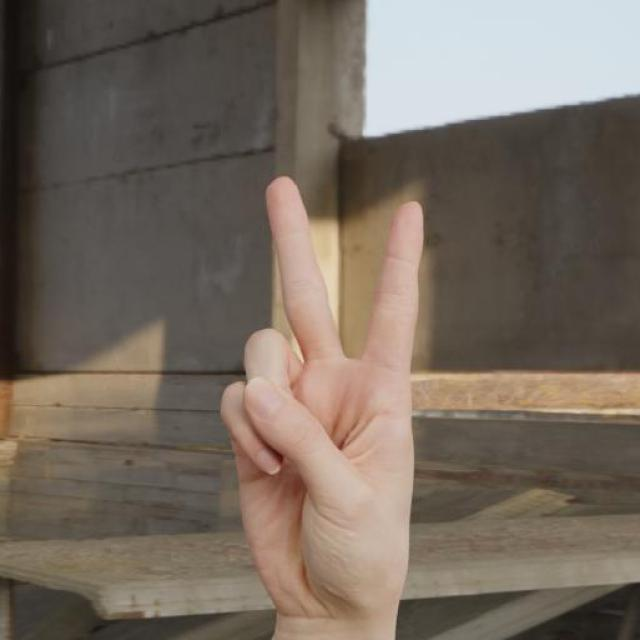V: (216, 172, 431, 623)
